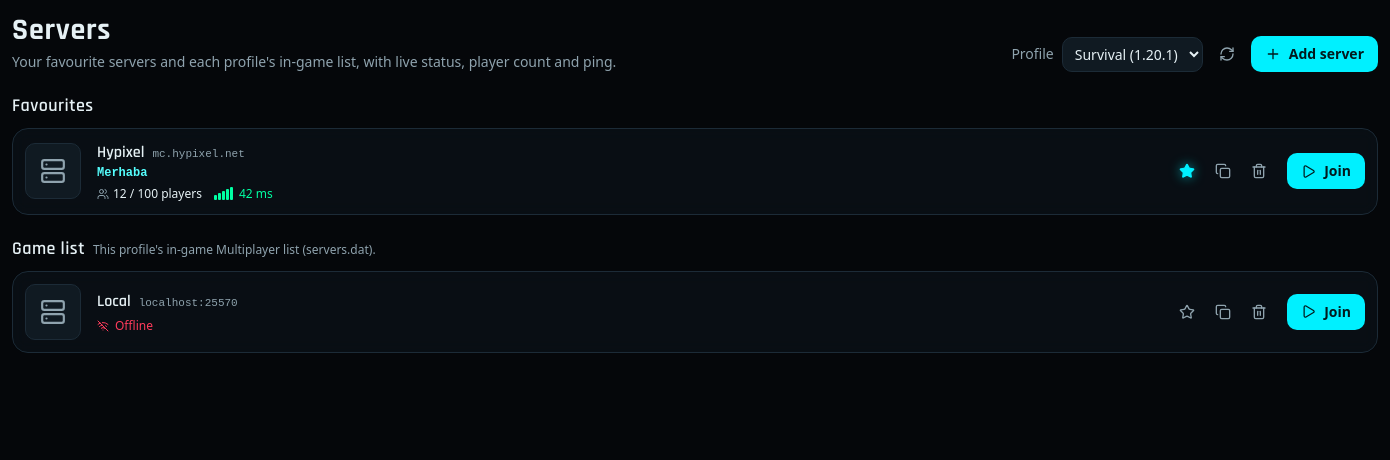
ServersPage › stars a game-list server into favourites
Click the button named "Add to favourites" at (1187, 312), box [1171,296,1203,328]
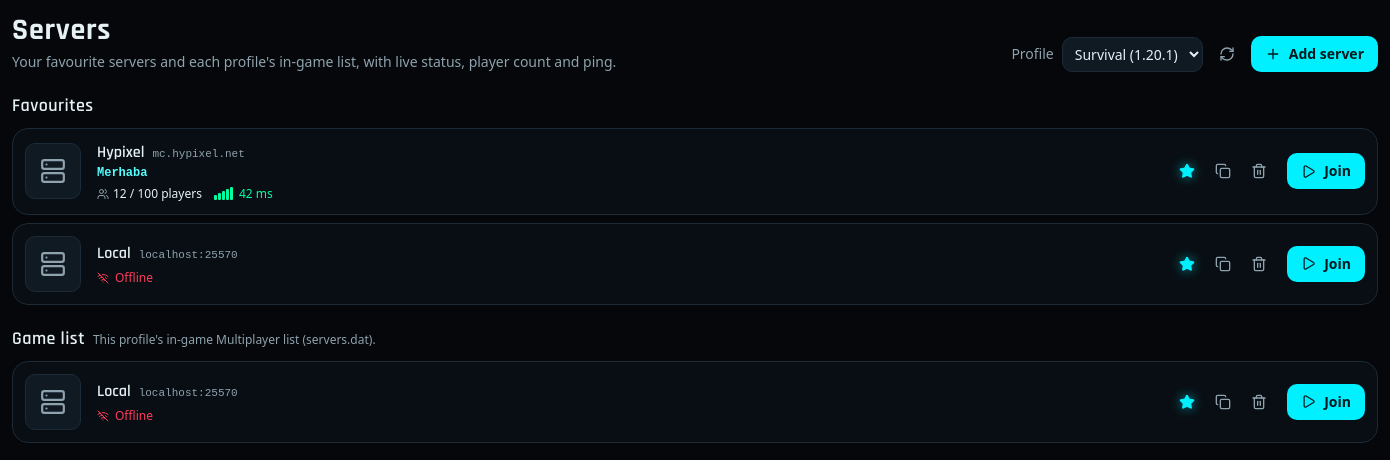
Now the text "Local" is shown 2 times, box [97,242,131,266]; [97,380,131,404]
